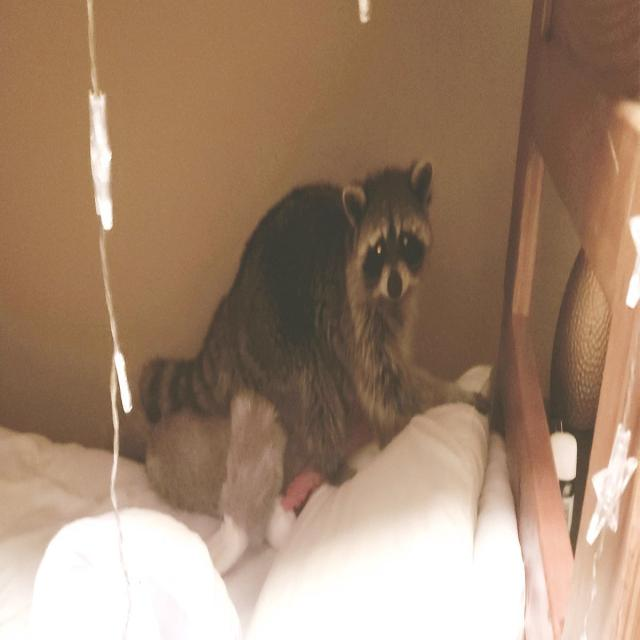Raccoon: (140, 153, 439, 489)
